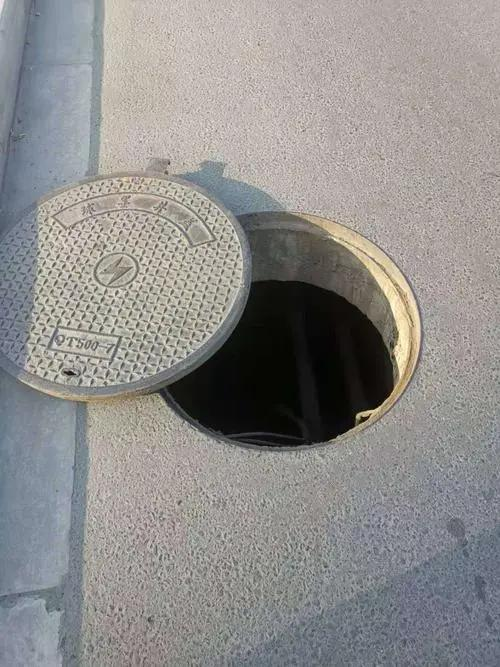wellcover: (0, 148, 435, 472)
